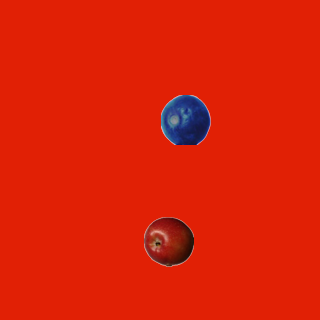Apple Braeburn: (143, 216, 193, 266)
Huckleberry: (160, 94, 210, 144)
